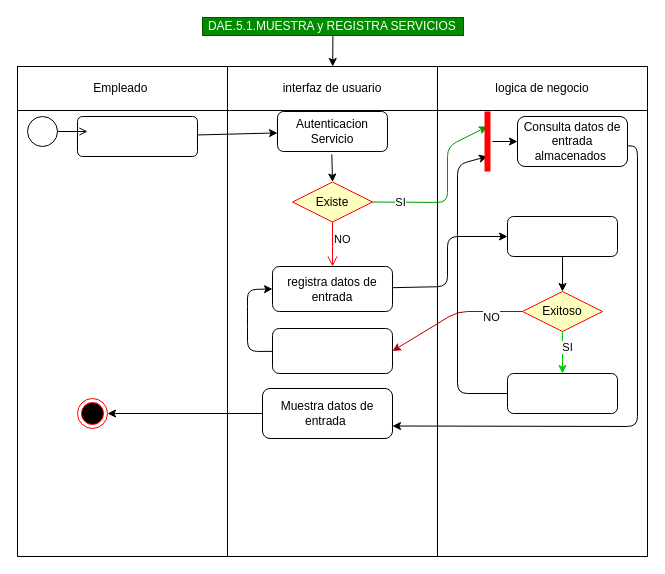
Some shapes in this 665 by 574 pixel diagram are drawn without their labels. Each missing label, with the centre of its shape:
"Almacena servicio" goes at point (562, 393).
"Datos de entrada erroneos" goes at point (332, 351).
"Ingresa un servicio" goes at point (137, 136).
"Valida datos de entrada" goes at point (562, 236).
